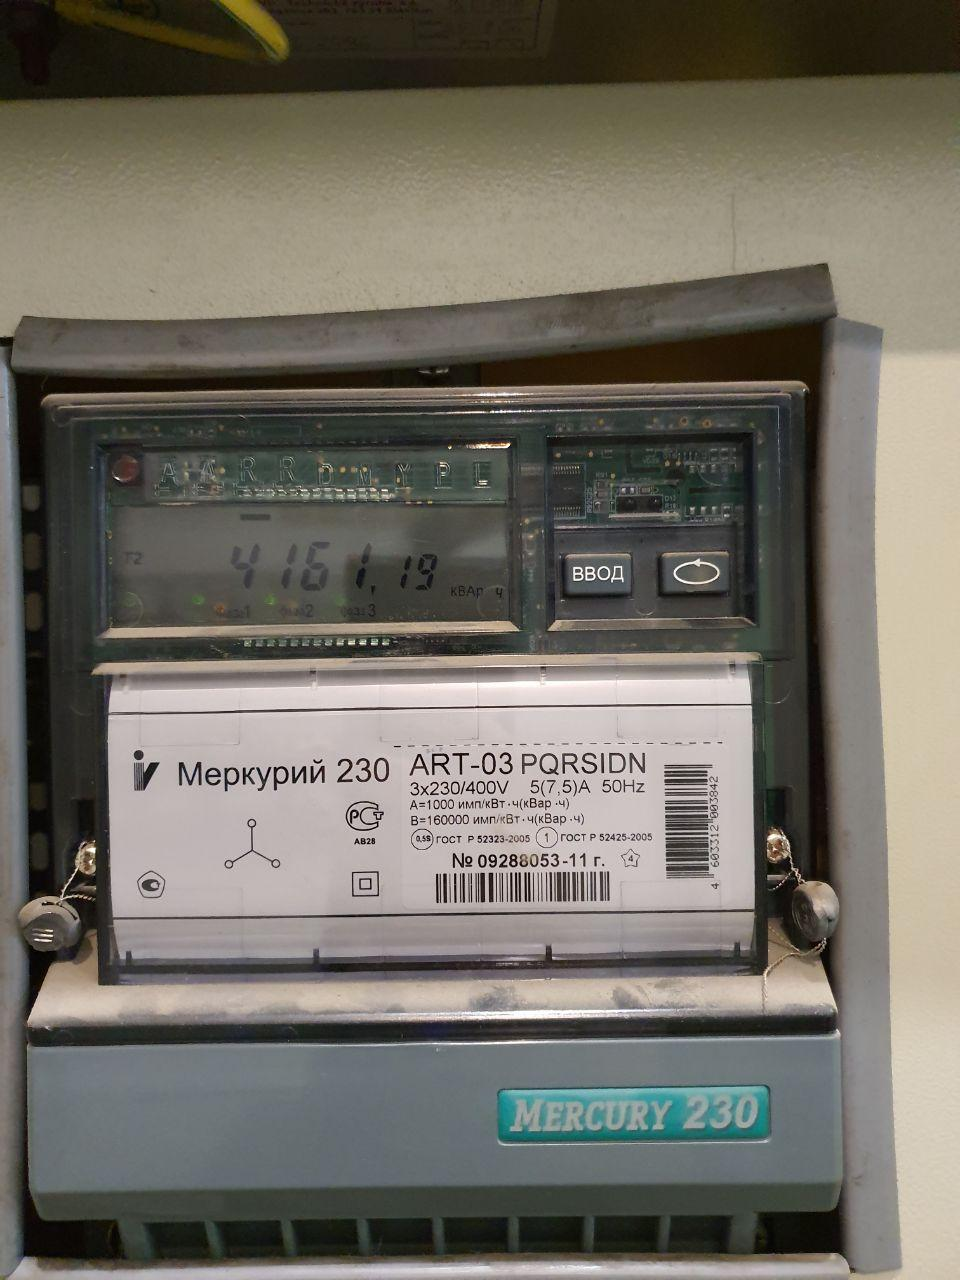counter: (23, 382, 848, 1253)
counter_screen: (103, 498, 523, 638)
